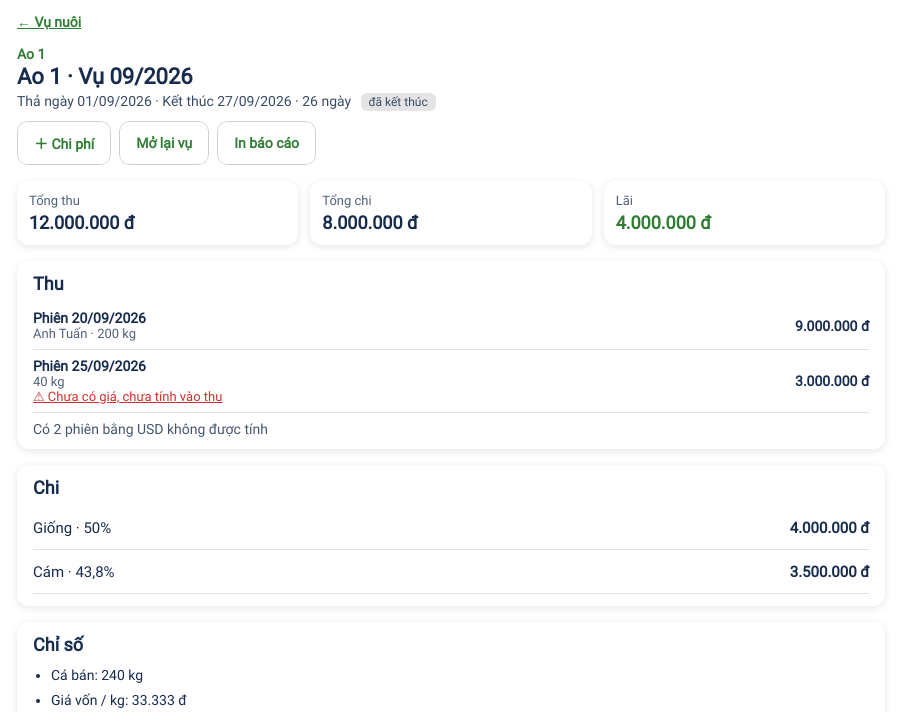
Scenario: lỗi hành động không in
What coordinates should you click on to do the following:
click the button "Mở lại vụ"
I would click on:
 (164, 143)
Its box is [119, 121, 209, 165].
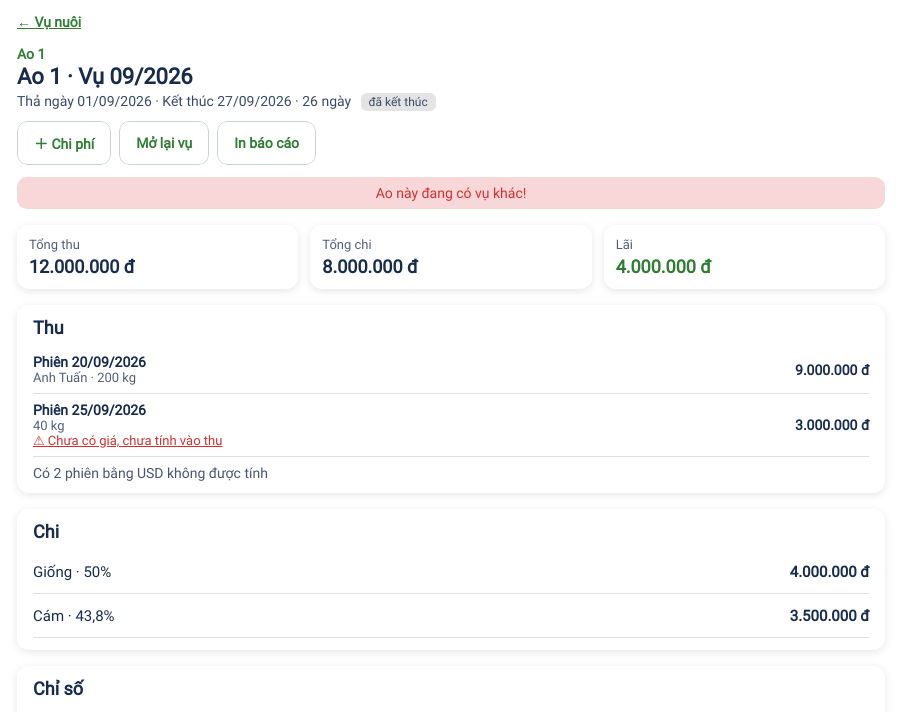
Now the text with class "report__action-error" reads "Ao này đang có vụ khác!", box [376, 185, 526, 201]
